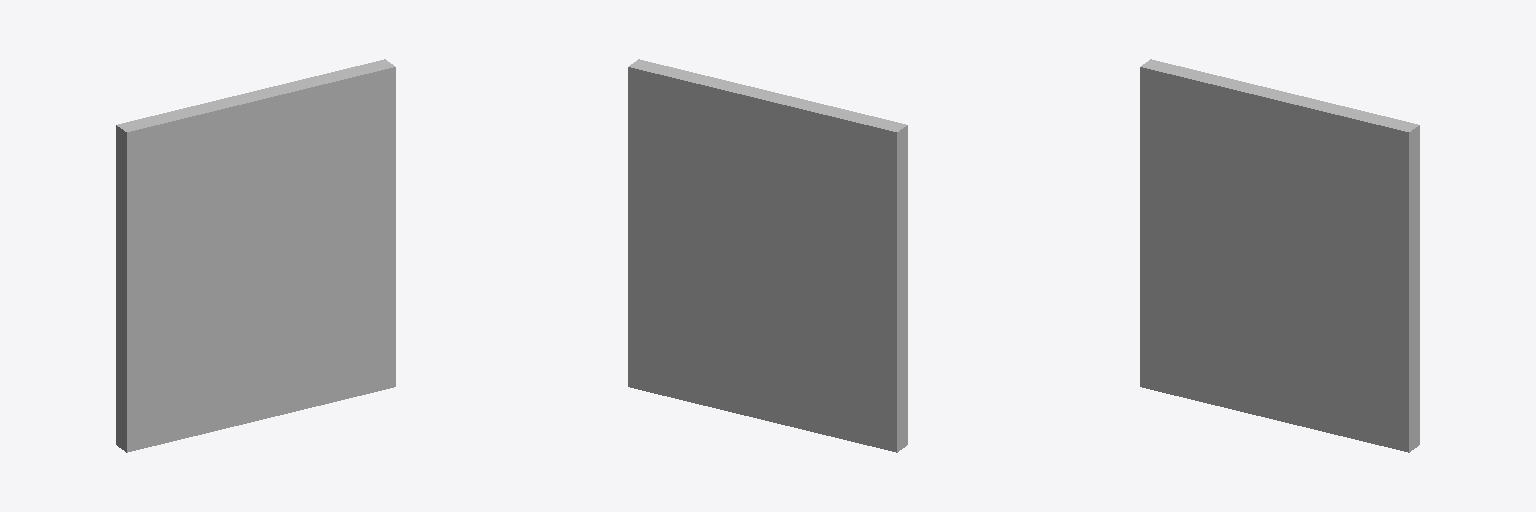
The model's file is canvas 01.obj.
3 renders of one model, left to right at view 1: azimuth 30°, elevation 25°; view 2: azimuth 150°, elevation 25°; view 3: azimuth 330°, elevation 25°, orthographic.
Parts seen in each view (by area): view 1: Cube; view 2: Cube; view 3: Cube.
Boxes of the visible parts, <box> form: Cube: <box>116,59,395,452</box>; Cube: <box>628,59,907,452</box>; Cube: <box>1140,59,1419,452</box>.
Bounding box in the file's own units: 1.76 × 2 × 0.1184.